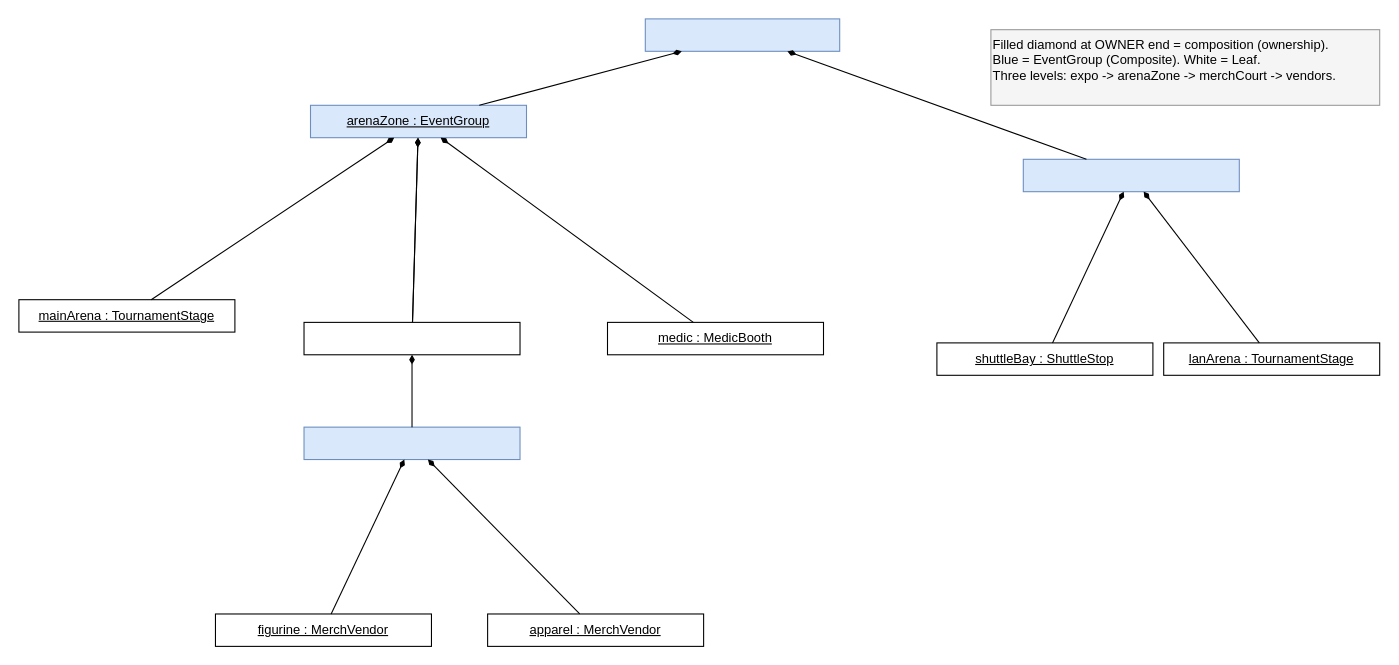
Image size: 1399x665. Some labels were removed from this diagram. Here are the shapes that lost their labels. From the top down, the centre of each, then its label:
the point at 742,34: expo : EventGroup
the point at 1130,175: lanZone : EventGroup
the point at 411,338: westGate : EntryGate
the point at 411,443: merchCourt : EventGroup
